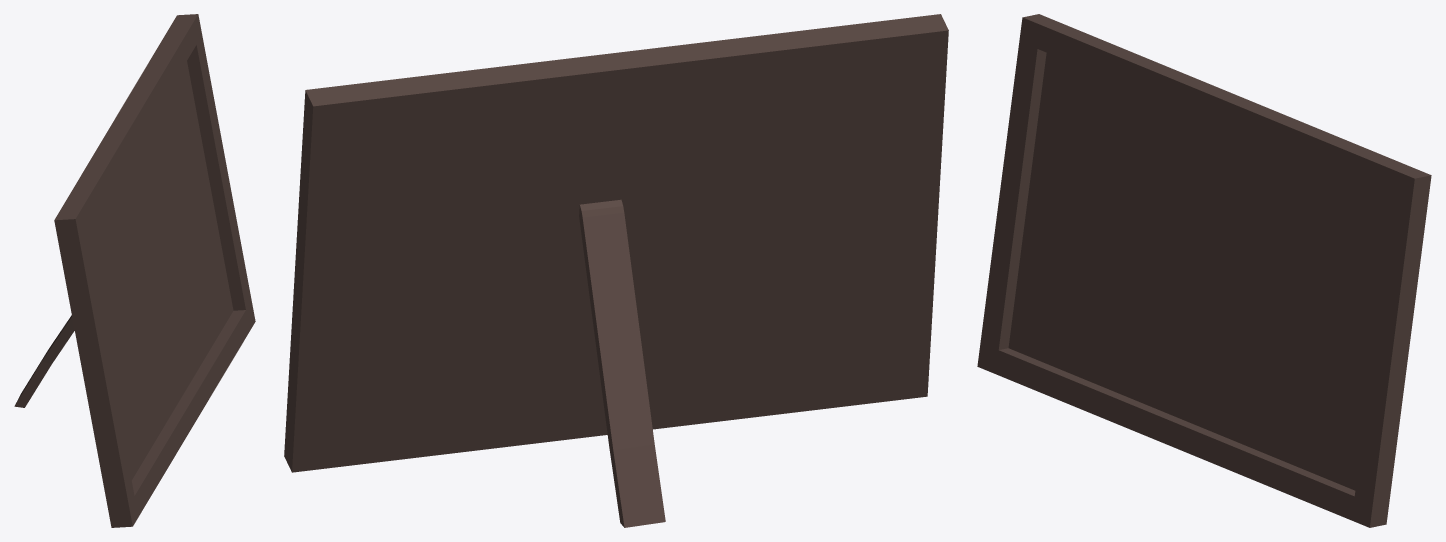
File: cuadroMesaLuz.fbx
The picture shows the model from 3 angles, left to right: view 1: azimuth 30°, elevation 25°; view 2: azimuth 150°, elevation 25°; view 3: azimuth 270°, elevation 25°; orthographic projection. The views are drawn at different scales.
Visible parts, largest first — view 1: Cube; view 2: Cube; view 3: Cube.
Part boxes in pixels (left/top/right/bottom): Cube: left=14, top=14, right=255, bottom=527; Cube: left=284, top=14, right=948, bottom=527; Cube: left=977, top=14, right=1431, bottom=527.
Size of the model in its own units: 0.1967 by 0.1627 by 0.2007.
